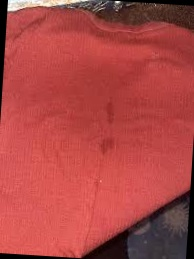oil: (95, 134, 122, 155), (107, 107, 120, 122)
